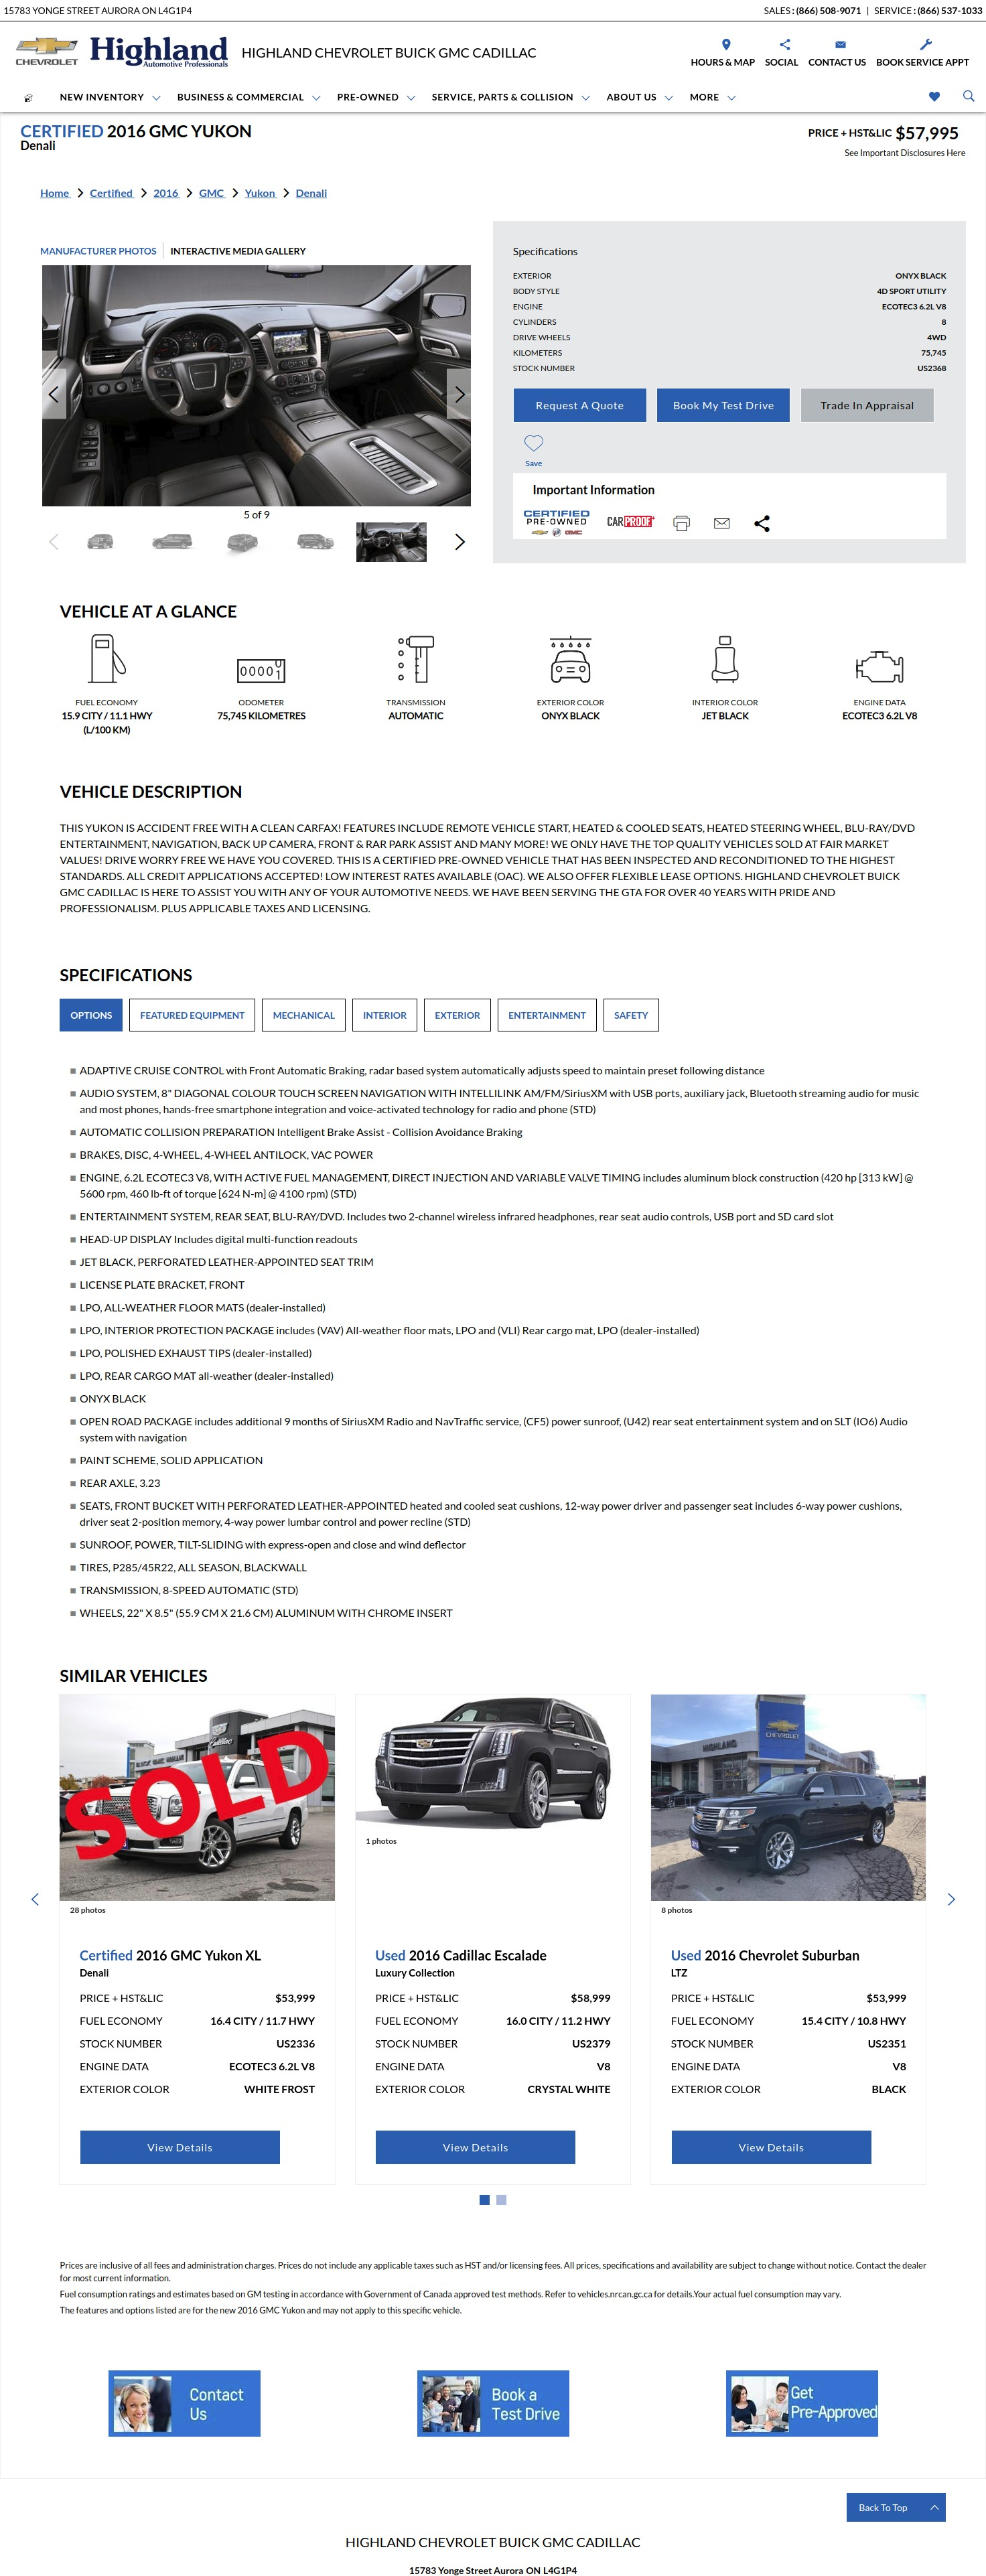car: (455, 534, 465, 550)
